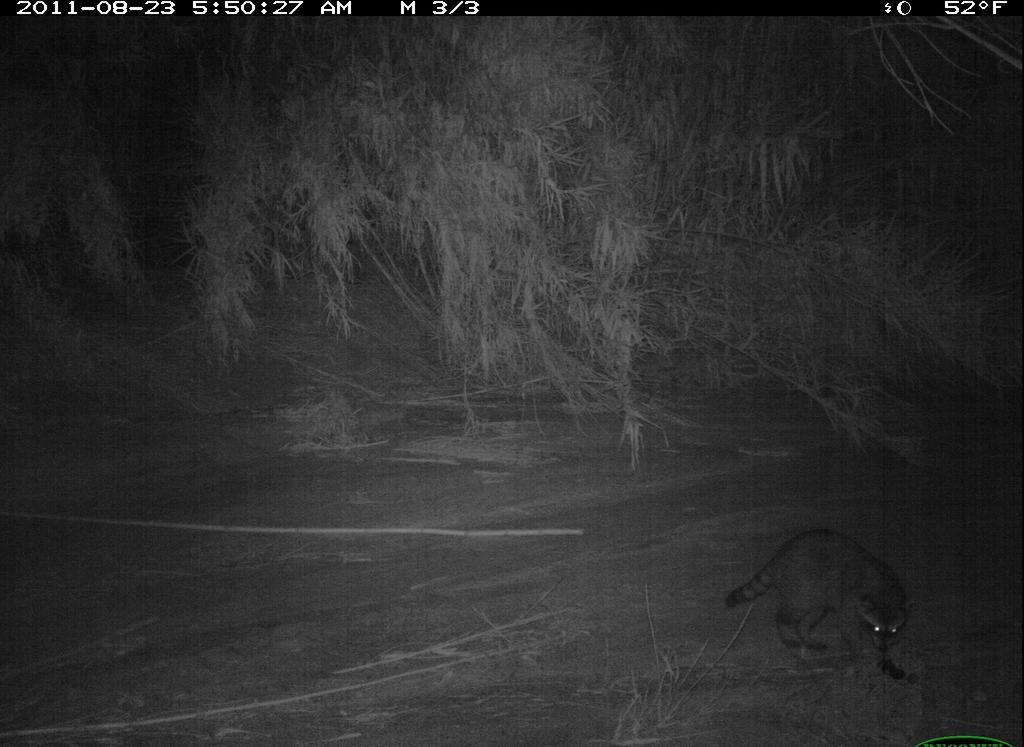raccoon: (719, 520, 929, 689)
